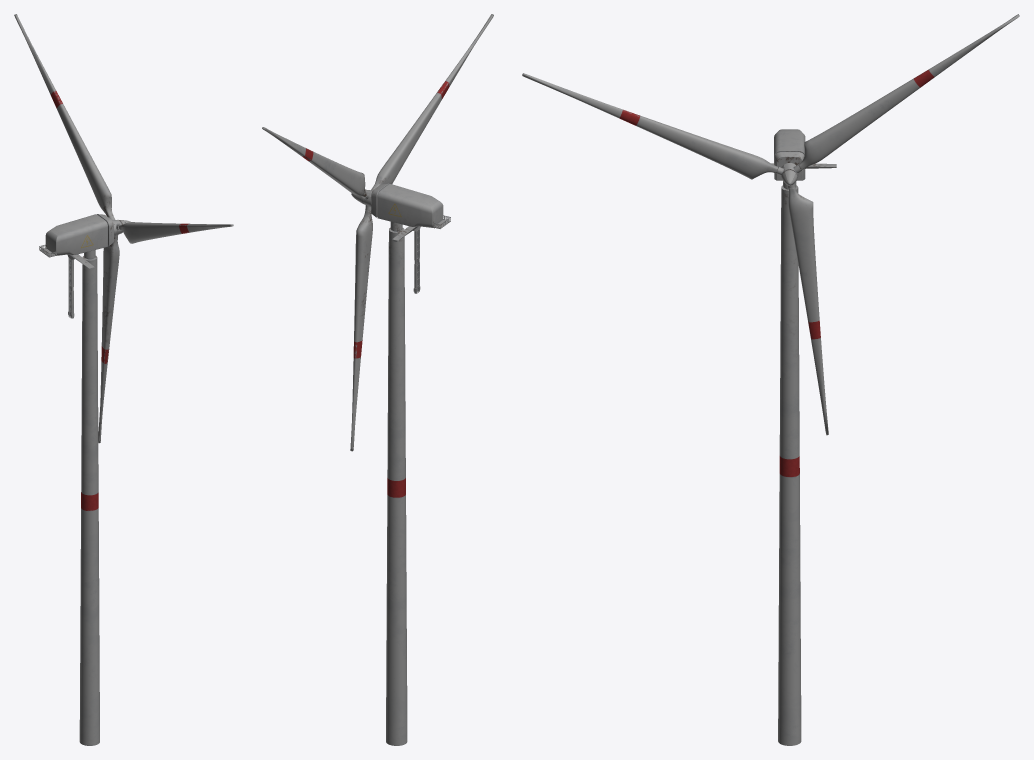
File: wind_turbine_small.glb
The picture shows the model from 3 angles, left to right: view 1: azimuth 30°, elevation 25°; view 2: azimuth 150°, elevation 25°; view 3: azimuth 270°, elevation 25°; orthographic projection. The views are drawn at different scales.
Visible parts, largest first — view 1: body, propeller, hull, hull piece; view 2: body, propeller, hull, hull piece; view 3: body, propeller, hull.
Boxes of the visible parts, x1=… form: body: x1=79, y1=250, x2=99, y2=745; propeller: x1=14, y1=14, x2=233, y2=443; hull: x1=45, y1=214, x2=113, y2=255; hull piece: x1=67, y1=254, x2=94, y2=318; body: x1=386, y1=221, x2=407, y2=745; propeller: x1=262, y1=14, x2=493, y2=451; hull: x1=371, y1=183, x2=443, y2=228; hull piece: x1=392, y1=226, x2=420, y2=293; body: x1=778, y1=181, x2=801, y2=745; propeller: x1=522, y1=14, x2=1019, y2=435; hull: x1=774, y1=129, x2=805, y2=180.
Size of the model in its own units: 6.88 by 48.02 by 29.22.
2 materials, 2 textured.
